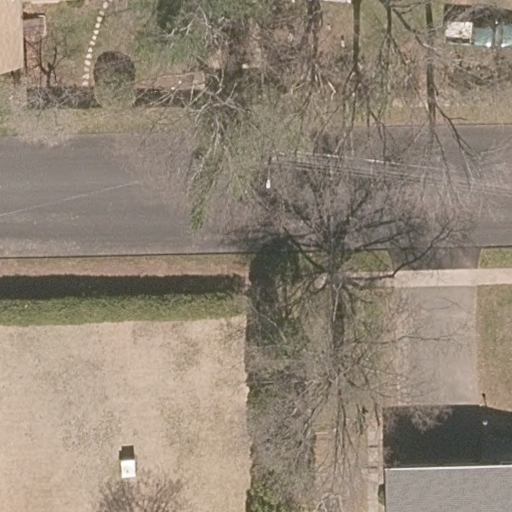DT: (251, 142, 297, 190)
